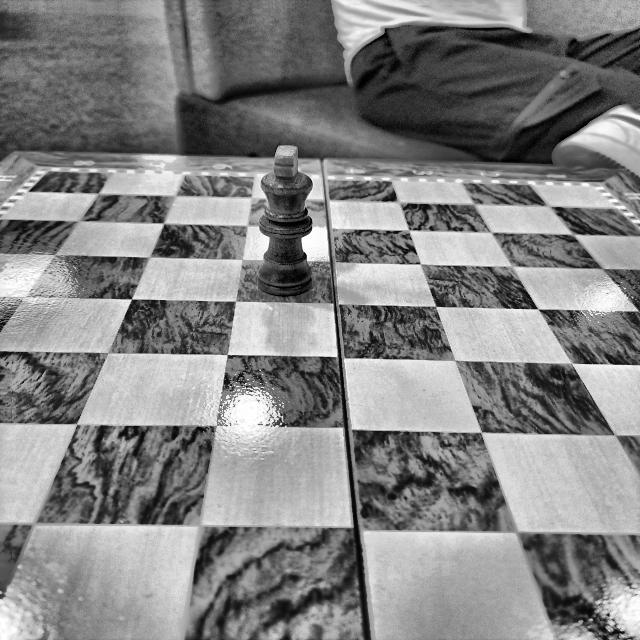black-king: (256, 146, 313, 297)
